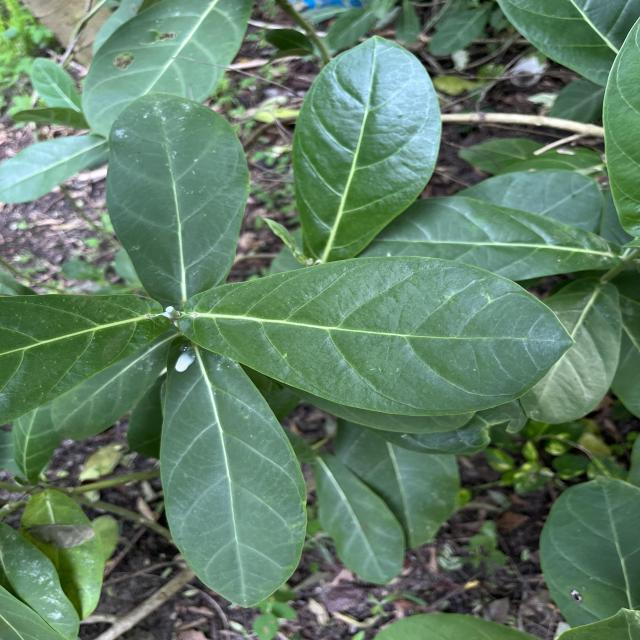Calotropis gigantea: (176, 253, 579, 420), (158, 340, 312, 610), (292, 32, 446, 260), (103, 90, 255, 300), (81, 0, 259, 132), (306, 445, 408, 586)
